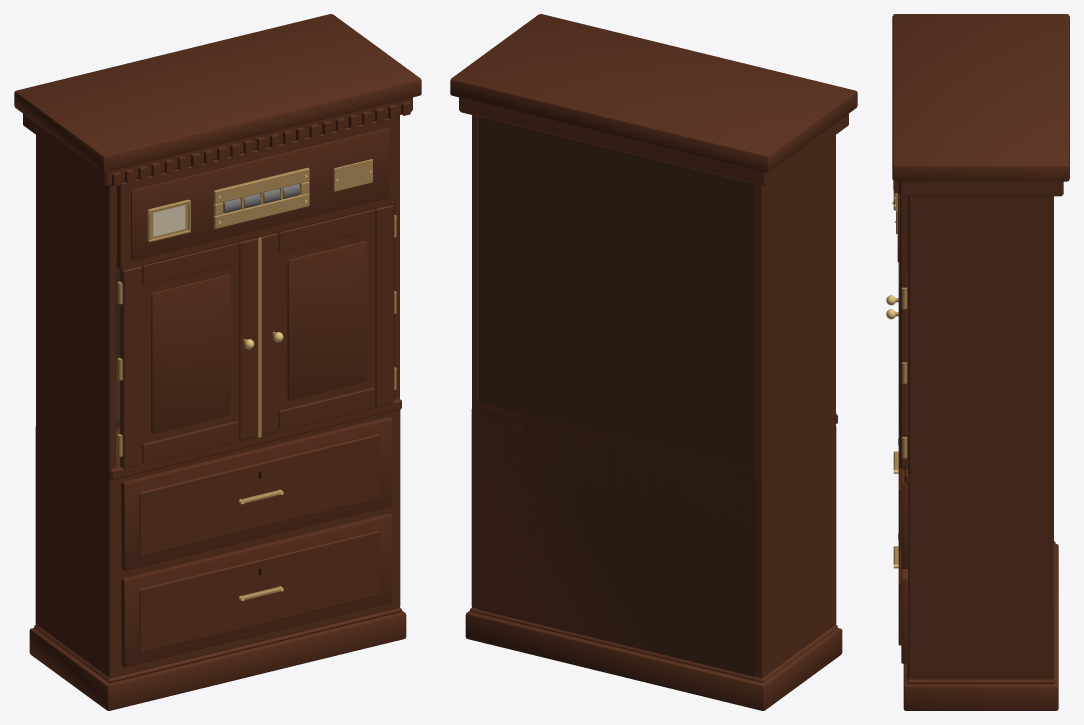
The model's file is strand_cabinet.glb.
3 views of the same model, side by side, from view 1: azimuth 30°, elevation 25°; view 2: azimuth 150°, elevation 25°; view 3: azimuth 270°, elevation 25° (orthographic). The views are drawn at different scales.
Visible parts, largest first — view 1: cabinet_body, IA_door_l, IA_door_r, cabinet_label; view 2: cabinet_body; view 3: cabinet_body, IA_door_r.
Part boxes in pixels (bbox=[...]): cabinet_body: bbox=[14, 14, 421, 710]; IA_door_l: bbox=[120, 237, 257, 468]; IA_door_r: bbox=[257, 204, 394, 435]; cabinet_label: bbox=[153, 205, 185, 236]; cabinet_body: bbox=[450, 14, 857, 710]; cabinet_body: bbox=[892, 14, 1069, 710]; IA_door_r: bbox=[886, 262, 908, 469].
Bounding box in the file's own units: 1.14 × 1.92 × 0.58.
